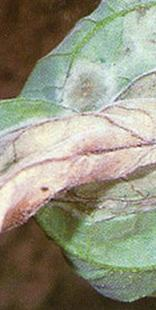Tomato leaf late blight: (0, 0, 156, 298)
